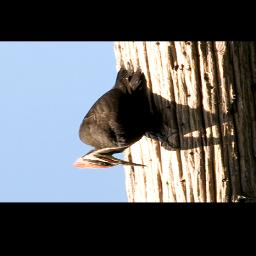Woodpecker: (72, 62, 179, 169)
